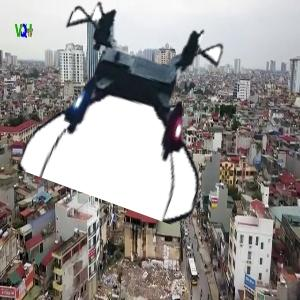drone: (31, 5, 231, 205)
